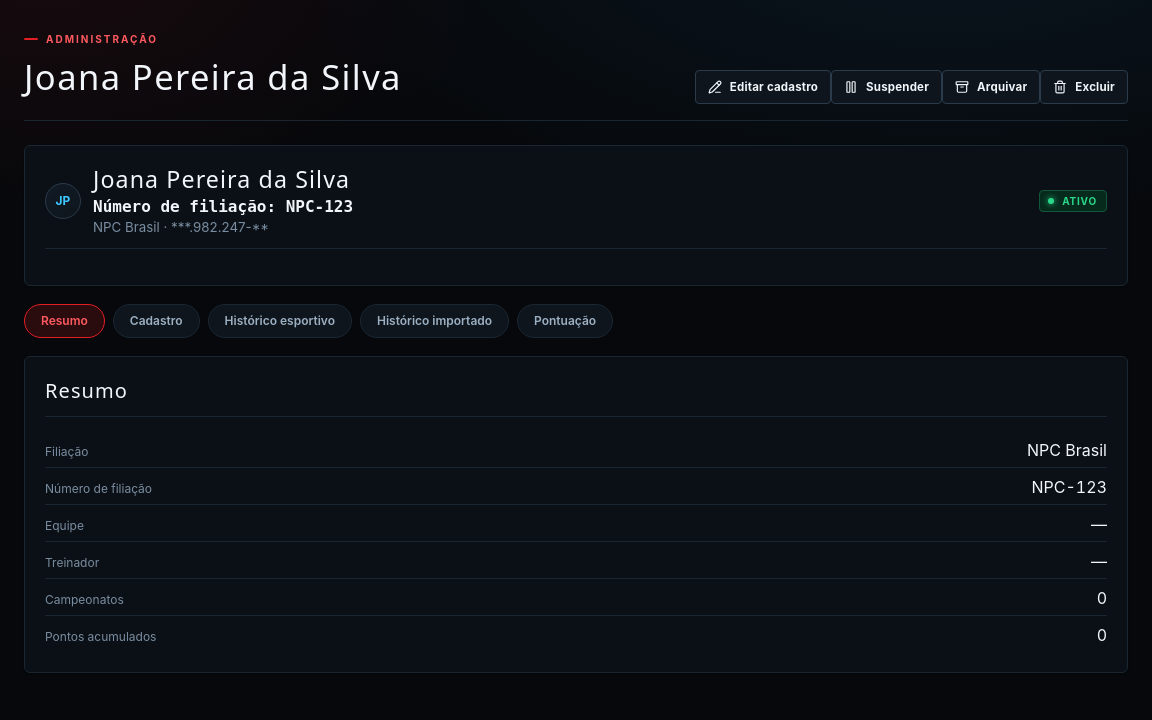
Test: a força da pista vem do servidor e aparece na tela › filiação + matrícula e "só o nome" são marcados de formas diferentes
Click the button "Histórico importado": (435, 321) [360, 304, 509, 338]
(page scrolled)
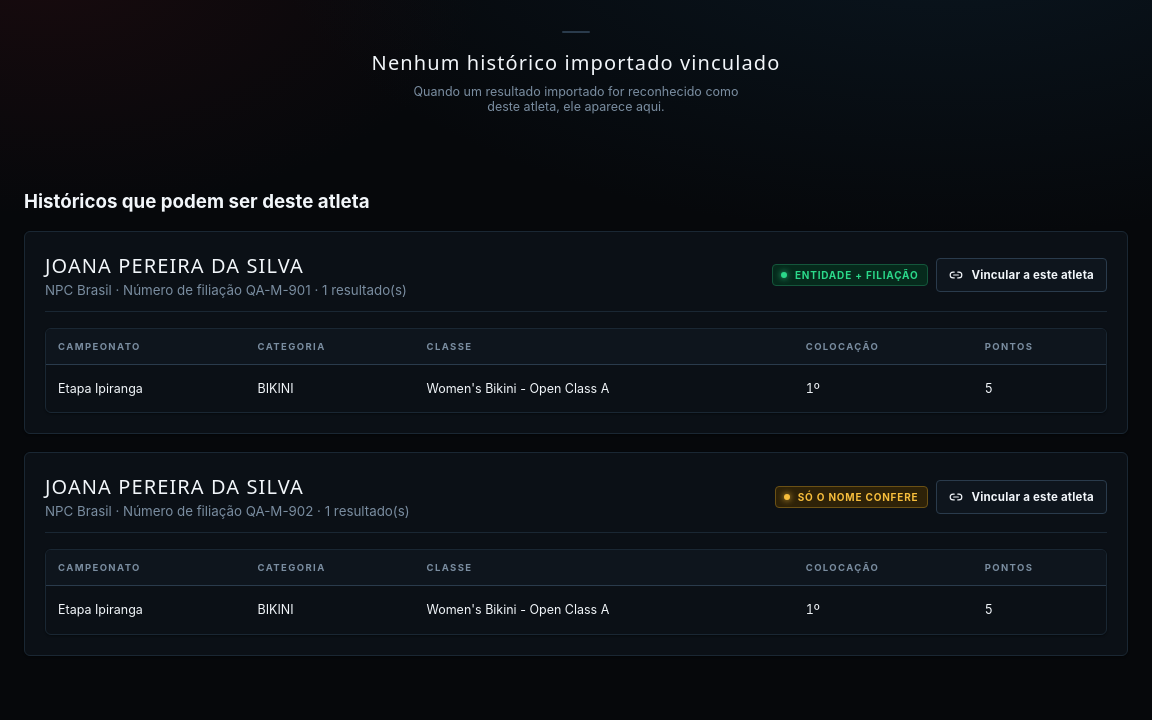
Expected: the text "Entidade + filiação" is shown, [772, 264, 928, 286]
Expected: the text "Só o nome confere" is shown, [775, 486, 928, 508]
